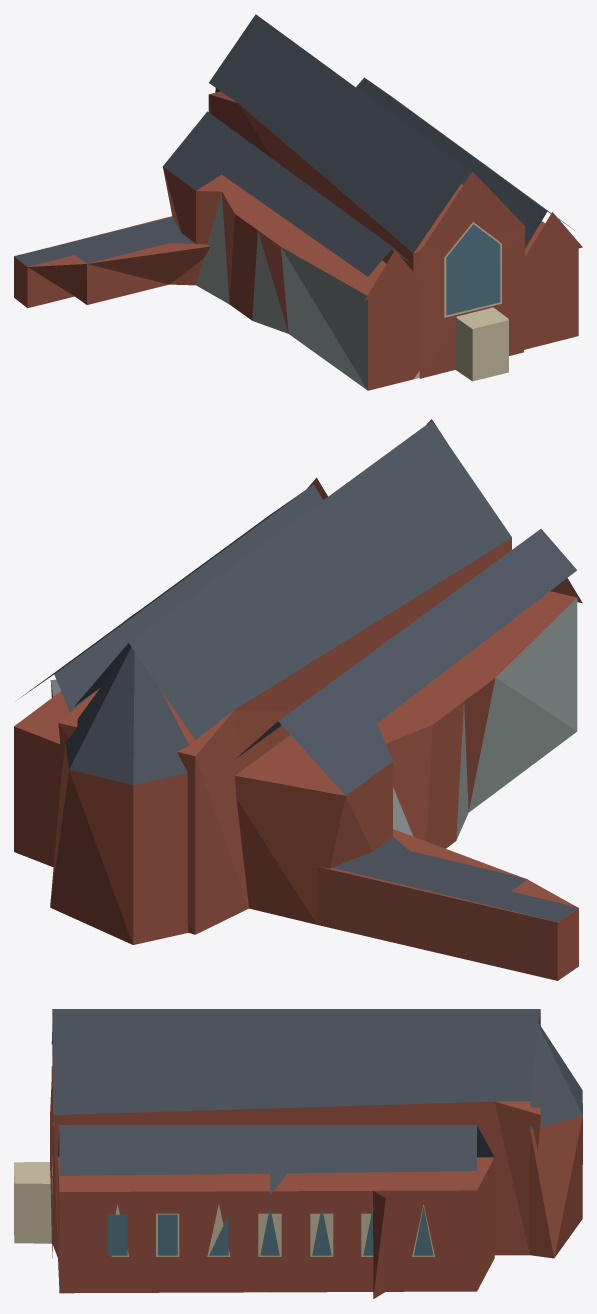
Rendered from walloon-church.lod2.glb.
3 renders of one model, top to bottom at view 1: azimuth 30°, elevation 25°; view 2: azimuth 150°, elevation 25°; view 3: azimuth 270°, elevation 25°, orthographic. The views are drawn at different scales.
Parts seen in each view (by area): view 1: lod2; view 2: lod2; view 3: lod2.
Boxes of the visible parts, <box> form: lod2: <box>14,14,582,390</box>; lod2: <box>14,419,582,980</box>; lod2: <box>14,1009,582,1298</box>.
Bounding box in the file's own units: 42.85 × 20.08 × 46.68.
